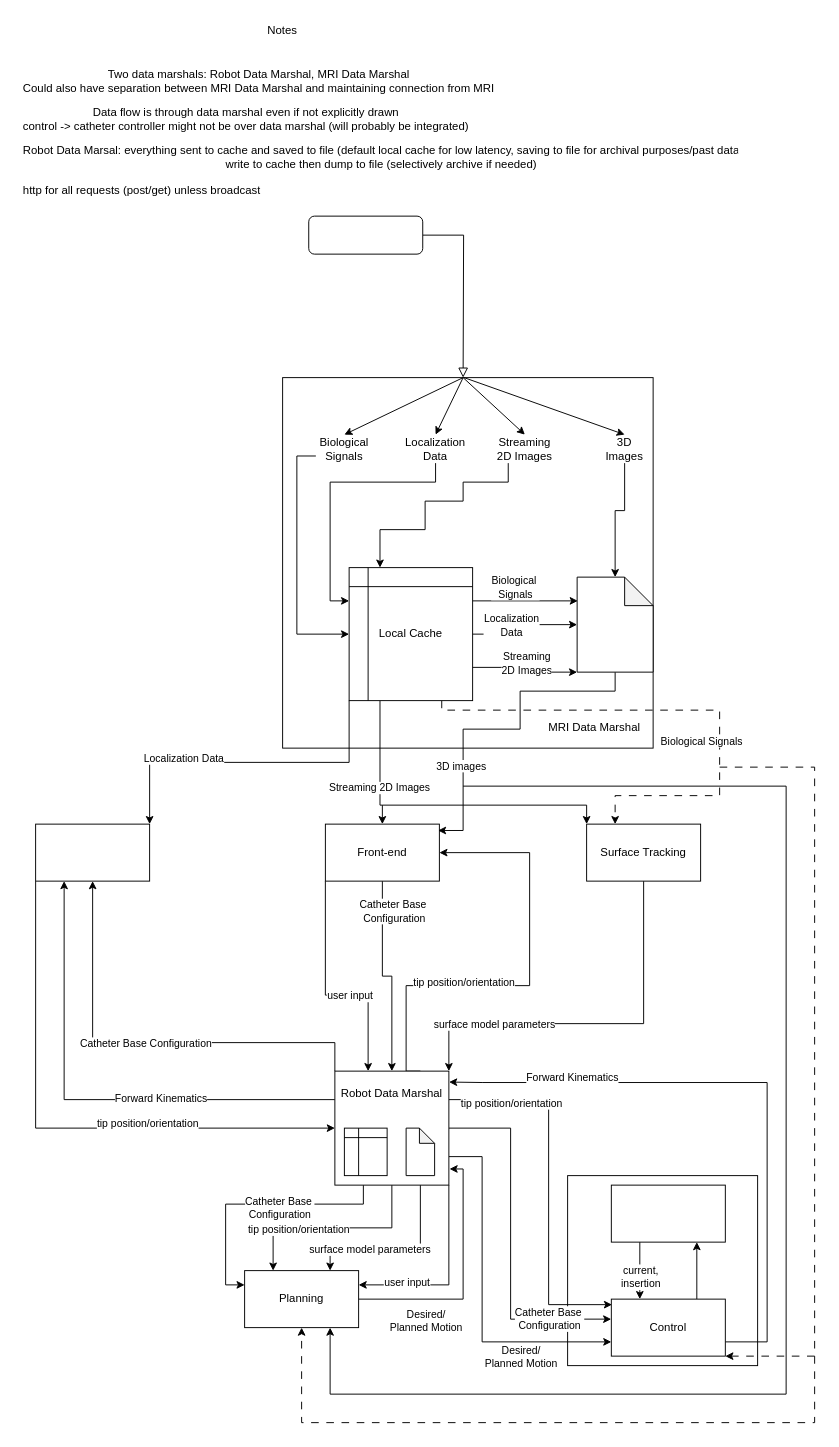
Image size: 839x1447. Some labels were removed from this diagram. The shapes that lost their labels are listed below. From the top down, each one's centre as x and y in pixels, then its label:
At (365,234): "MRI".
At (614,624): "Save to File".
At (92,852): "Catheter Tracking Module".
At (667,1213): "Catheter Controller (low level)".
